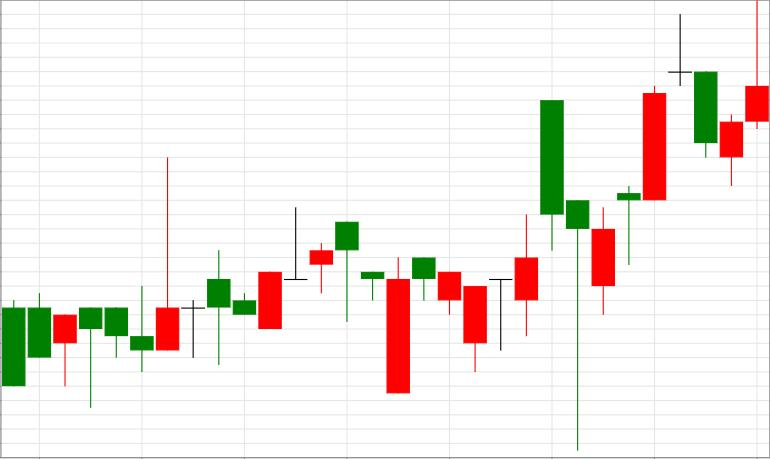evening_star_fall: (464, 16, 717, 450)
hanging_man_fall: (157, 158, 359, 365)
